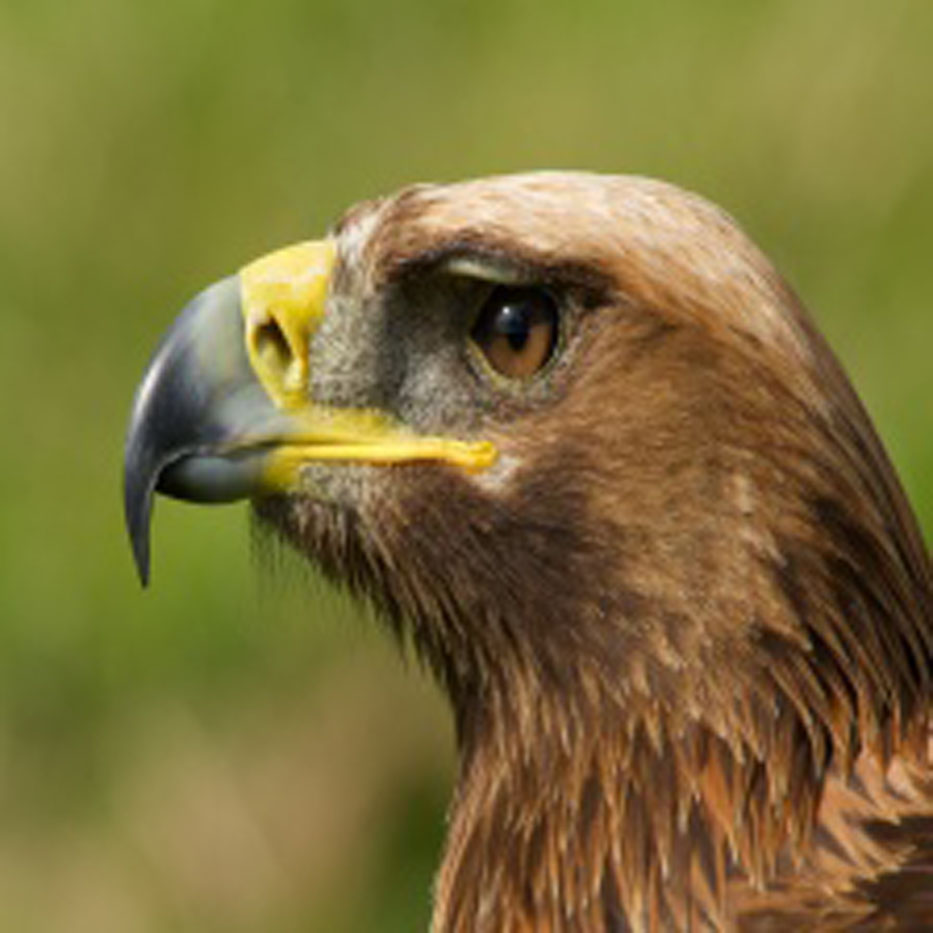Pengoyak Daging: (92, 256, 288, 599)
